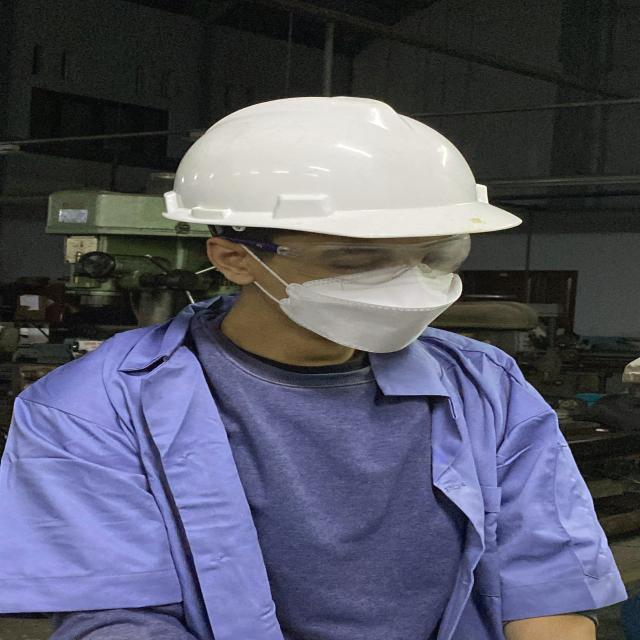face_mask: (262, 231, 475, 359)
glasses: (259, 229, 481, 286)
head_helmet: (158, 92, 522, 238)
person: (3, 101, 634, 640)
